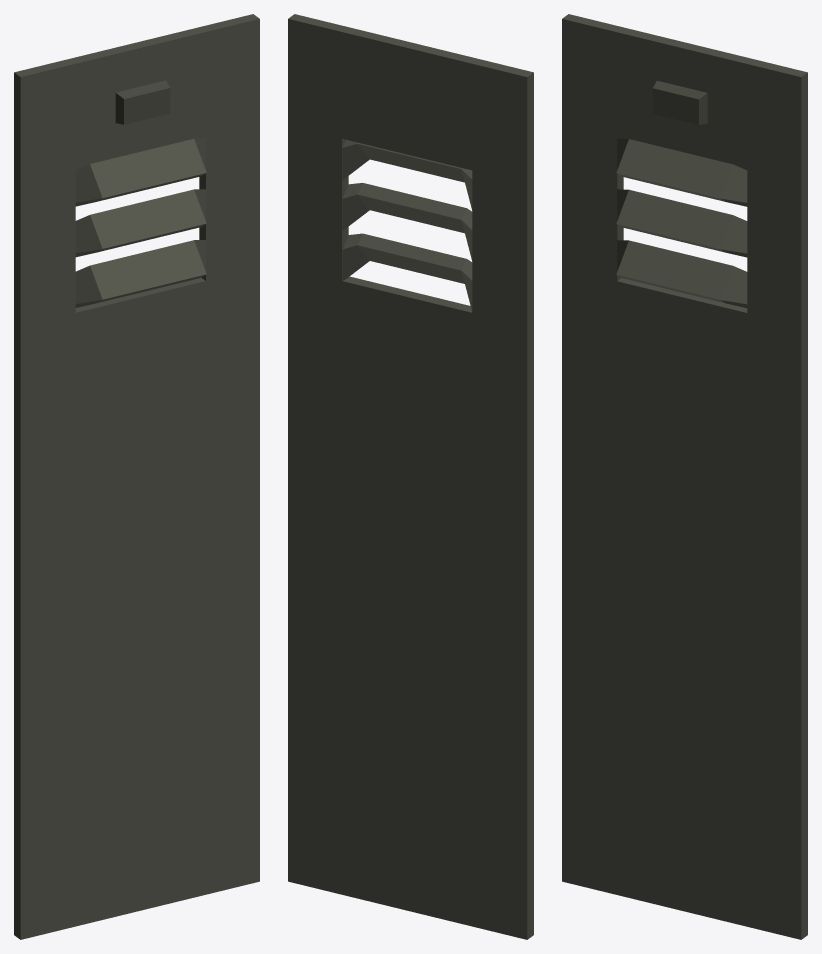
File: SM_Prop_Lockers_Door_04.fbx
3 renders of one model, left to right at view 1: azimuth 30°, elevation 25°; view 2: azimuth 150°, elevation 25°; view 3: azimuth 330°, elevation 25°, orthographic.
Parts seen in each view (by area): view 1: SM_Prop_Lockers_Door_04; view 2: SM_Prop_Lockers_Door_04; view 3: SM_Prop_Lockers_Door_04.
Boxes of the visible parts, x1,y1,x2,y2 form: SM_Prop_Lockers_Door_04: [14, 14, 259, 939]; SM_Prop_Lockers_Door_04: [288, 14, 533, 939]; SM_Prop_Lockers_Door_04: [562, 14, 807, 939].
Bounding box in the file's own units: 39.37 × 136 × 5.83.
